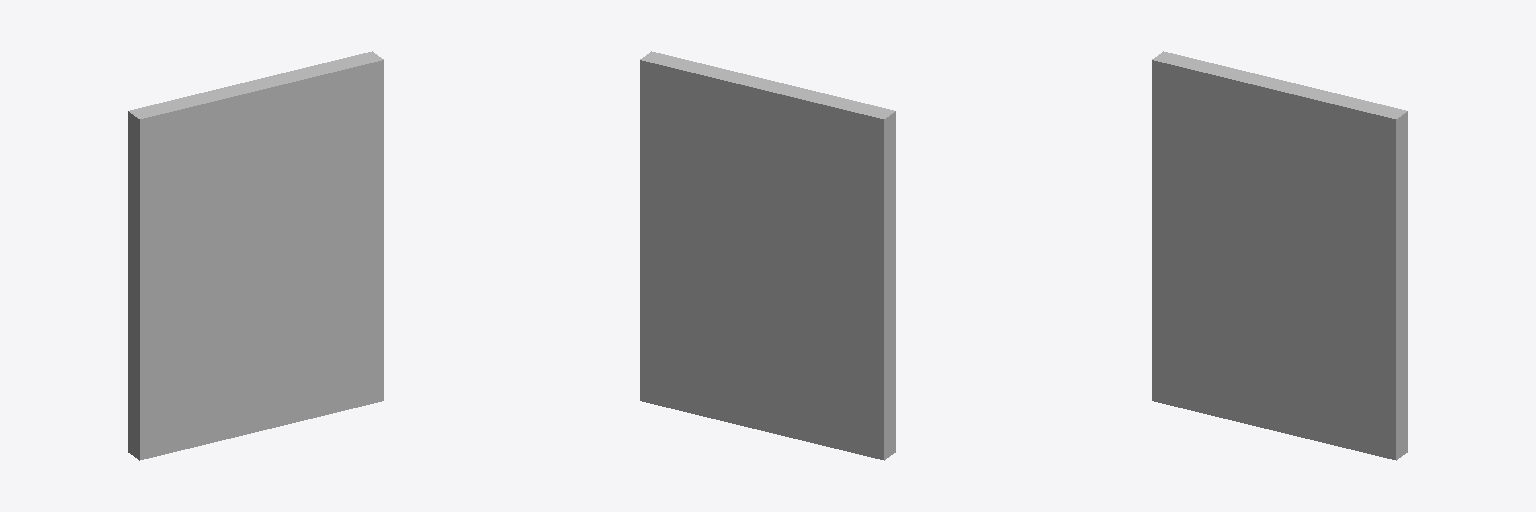
Rendered from window.obj.
The picture shows the model from 3 angles: view 1: azimuth 30°, elevation 25°; view 2: azimuth 150°, elevation 25°; view 3: azimuth 330°, elevation 25°; orthographic projection.
Visible parts, largest first — view 1: Wall+window_Cube.003; view 2: Wall+window_Cube.003; view 3: Wall+window_Cube.003.
Boxes of the visible parts, box(x1,y1,x2,y2) form: Wall+window_Cube.003: box(128, 51, 383, 460); Wall+window_Cube.003: box(640, 51, 895, 460); Wall+window_Cube.003: box(1152, 51, 1407, 460).
Size of the model in its own units: 3 by 4 by 0.25.